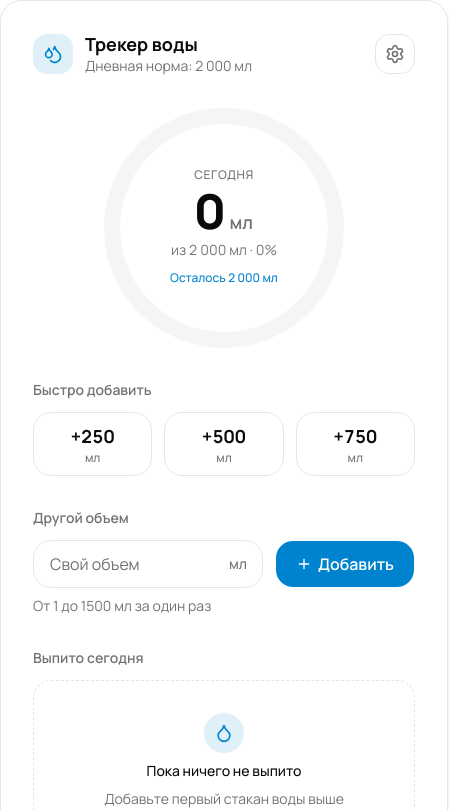
Test: WaterTracker: валидация формы › не отправляет запрос и показывает ошибку для значения "0"
This screenshot has width=465, height=810.
Type "0" into the field with placeholder "Свой объем" at point(148, 564), box [33,540,263,588]
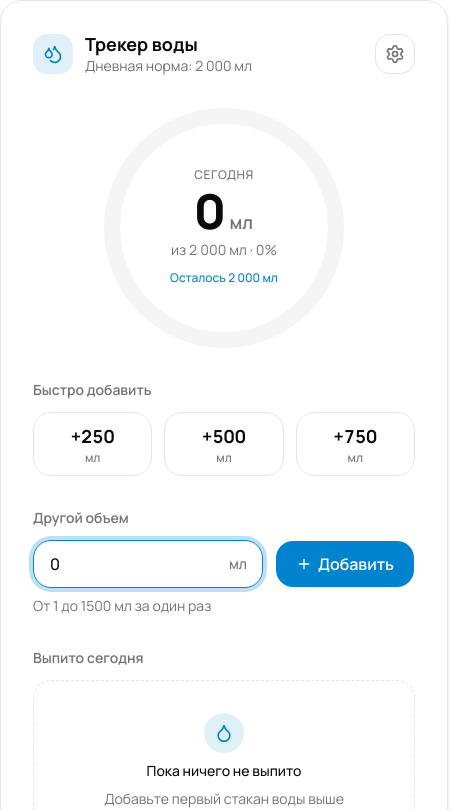
Click the button "Добавить" at point(345, 564), box [275,540,415,588]
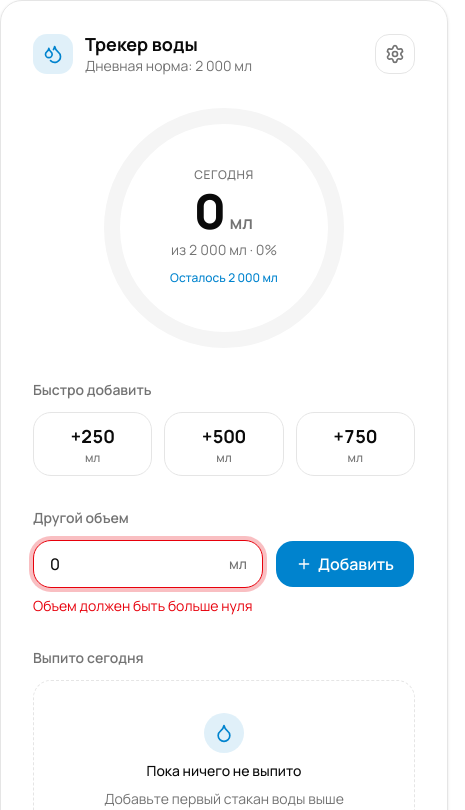
Now the message reads "Объем должен быть больше нуля", box [33,596,252,614]
